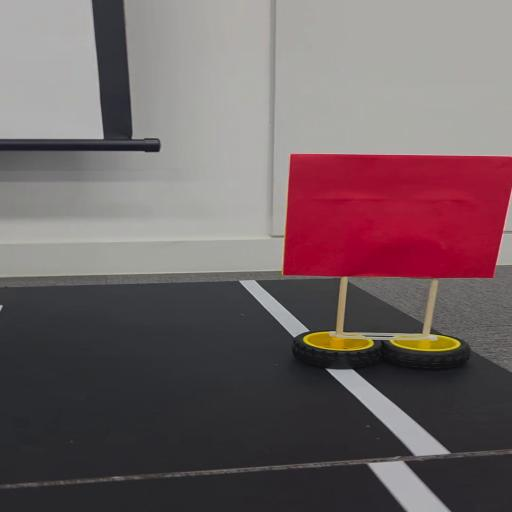Sign_A: (270, 150, 512, 374)
